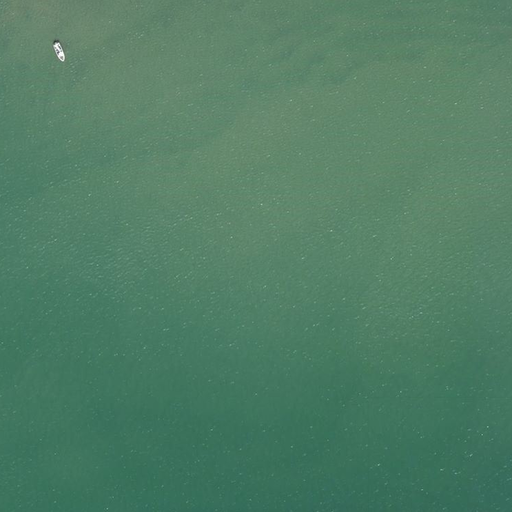ship: (52, 41, 65, 62)
